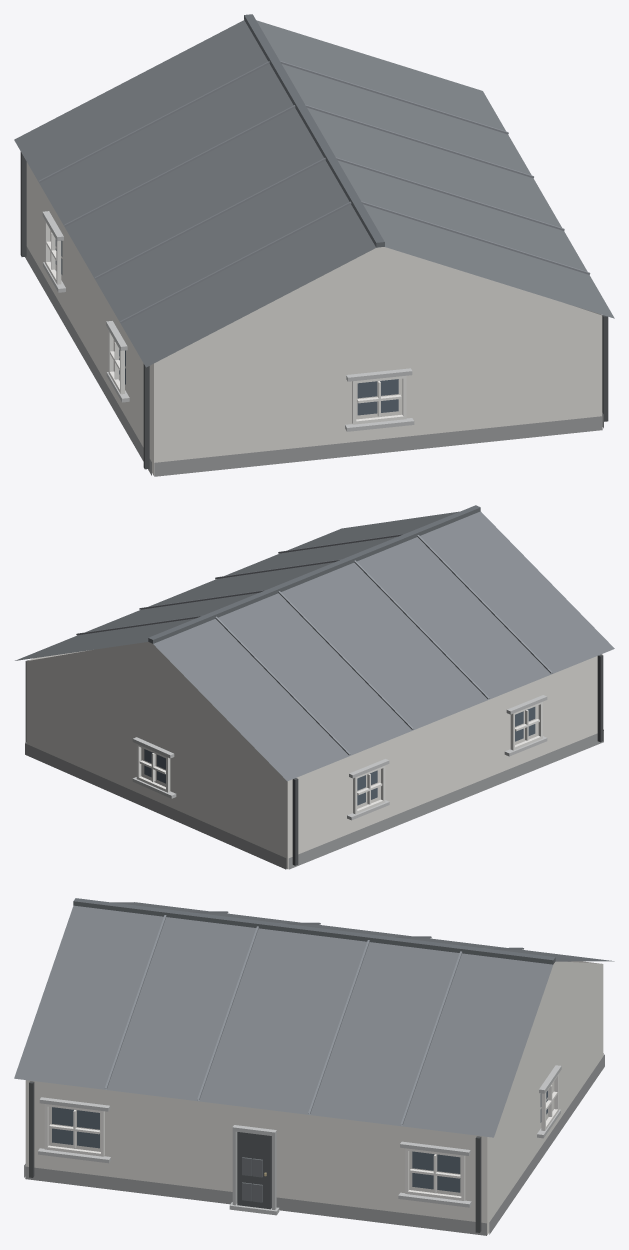
3 views of the same model, one above another, from view 1: azimuth 30°, elevation 25°; view 2: azimuth 150°, elevation 25°; view 3: azimuth 270°, elevation 25° (orthographic). The views are drawn at different scales.
Parts seen in each view (by area): view 1: slate, harl, plinth, slate_lt, slate_dk, frame, pipe, stone_band; view 2: slate, harl, plinth, slate_lt, slate_dk, frame, stone_band, pipe; view 3: slate, harl, plinth, slate_dk, stone_band, frame, slate_lt, door_dark, pipe, door_dark_p.
Boxes of the visible parts, x1,y1,x2,y2 form: slate: [14, 20, 614, 367]; harl: [26, 162, 602, 475]; plinth: [25, 246, 603, 476]; slate_lt: [39, 61, 590, 323]; slate_dk: [244, 14, 384, 247]; frame: [45, 220, 406, 424]; pipe: [20, 152, 608, 469]; stone_band: [42, 211, 414, 431]; slate: [15, 511, 614, 781]; harl: [26, 642, 602, 869]; plinth: [25, 729, 603, 869]; slate_lt: [76, 534, 552, 755]; slate_dk: [148, 505, 480, 643]; frame: [136, 701, 542, 814]; stone_band: [132, 695, 547, 820]; pipe: [25, 654, 603, 865]; slate: [14, 902, 614, 1137]; harl: [25, 961, 603, 1234]; plinth: [24, 1053, 604, 1235]; slate_dk: [73, 898, 555, 964]; stone_band: [38, 1065, 561, 1215]; frame: [44, 1073, 558, 1200]; slate_lt: [105, 911, 523, 1125]; door_dark: [237, 1132, 271, 1209]; pipe: [29, 1081, 481, 1232]; door_dark_p: [242, 1157, 262, 1202].
Size of the model in its own units: 14.05 by 5.4 by 15.15.
